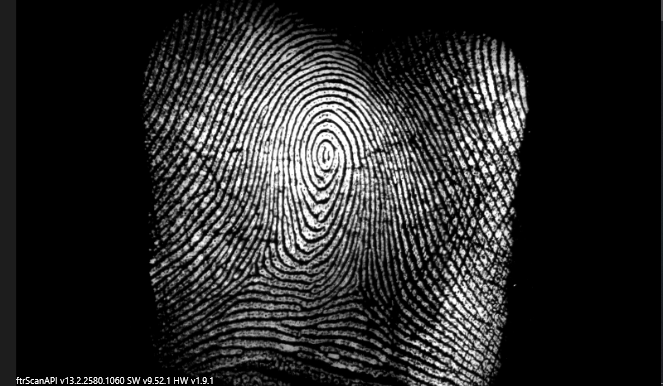deltas: (229, 234, 280, 290), (335, 262, 382, 313)
nucleo: (302, 118, 350, 183)
